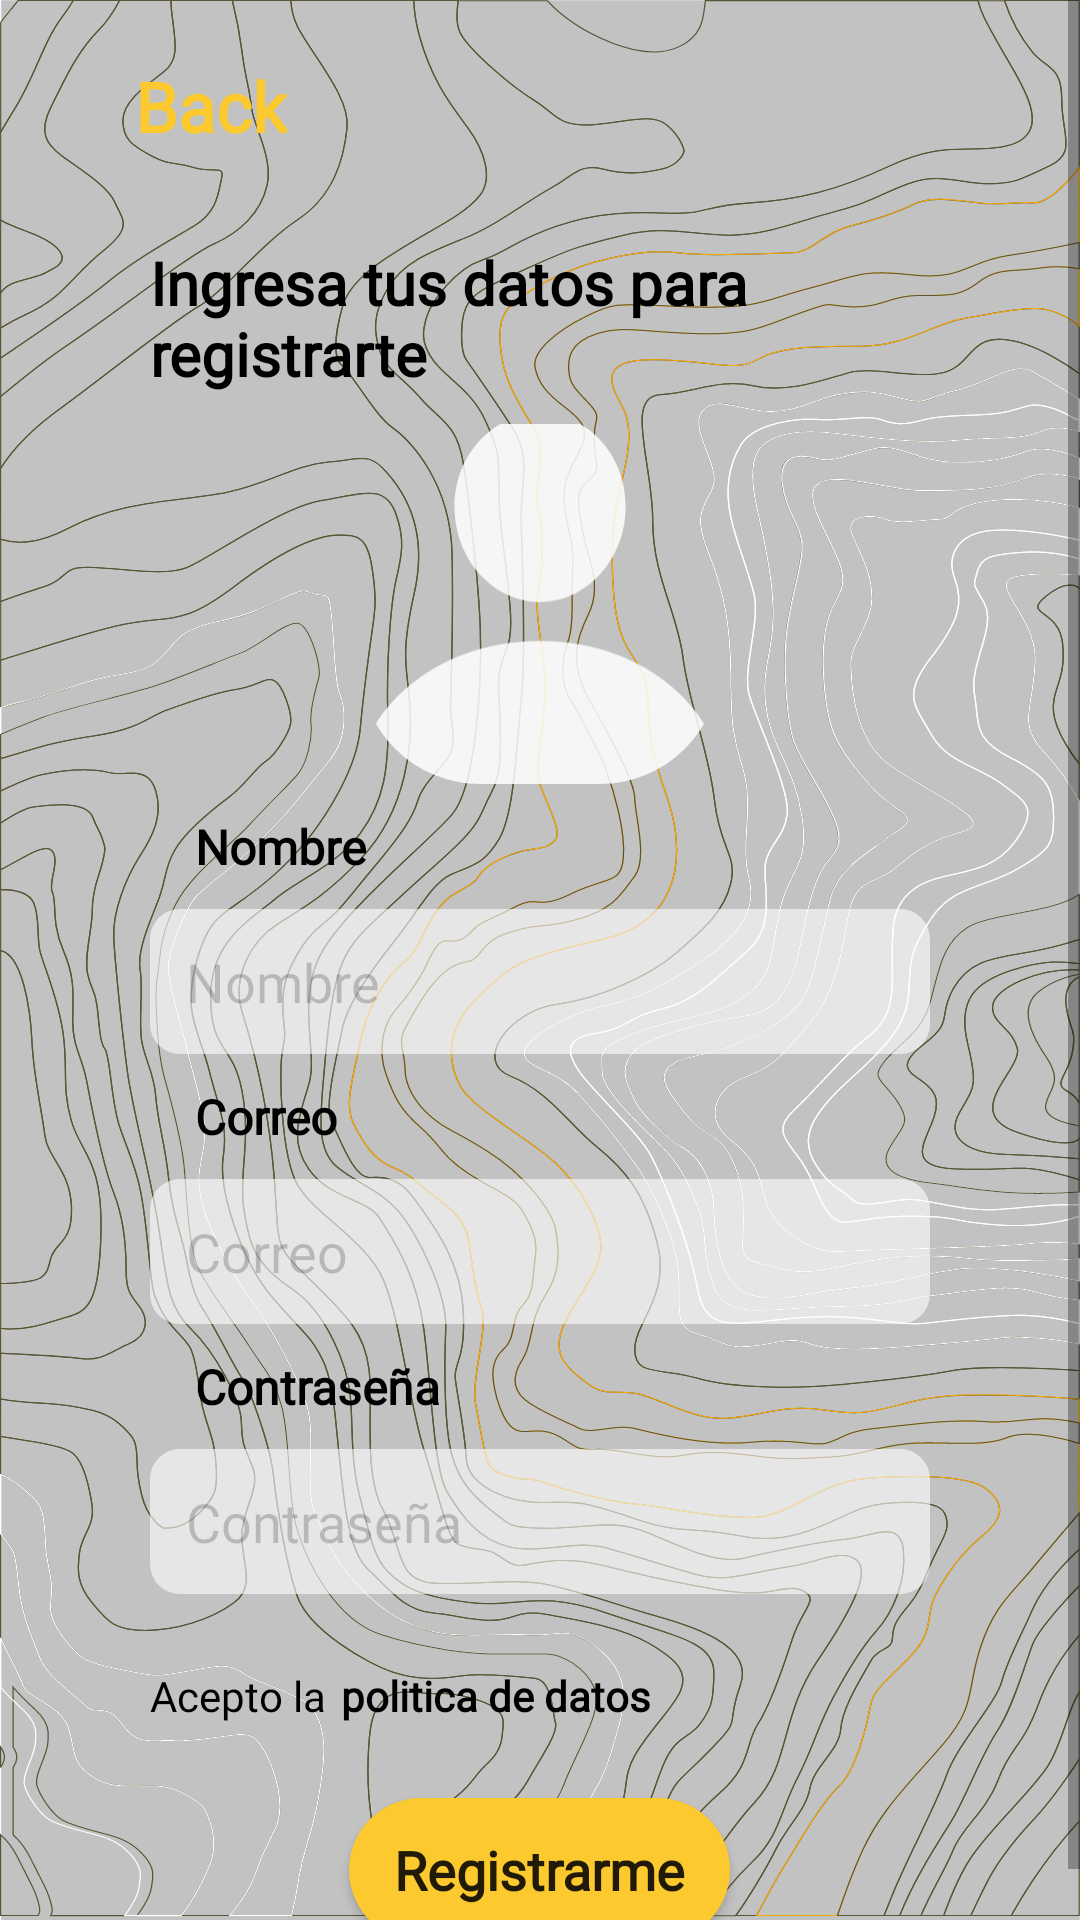

Named icons in this screenshot (1080w x 1920h) and their centers, (x=x, y=y):
user: (x=540, y=604)
